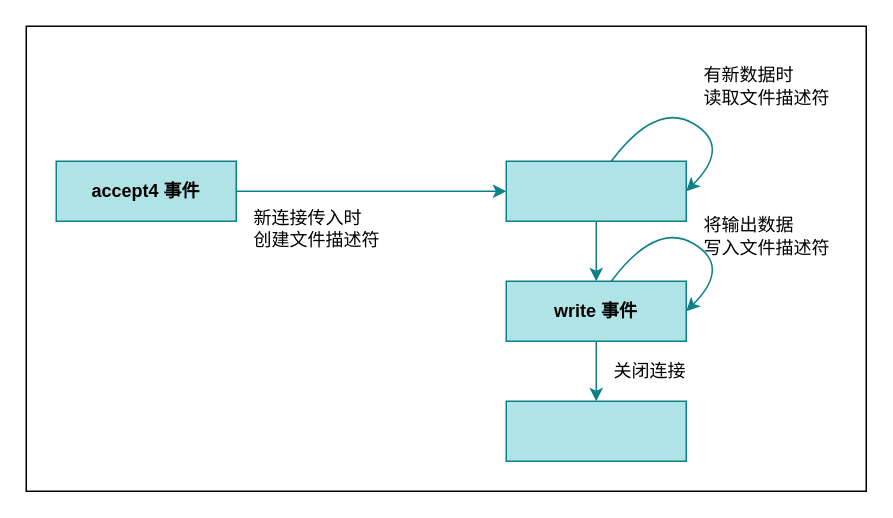
Image size: 893x518. Some labels were removed from this diagram. The shapes that lost their labels are listed below. From the top down, each one's centre as x and y in pixels, then its label:
At point 595,190: "read 事件".
At point 595,430: "close 事件".
